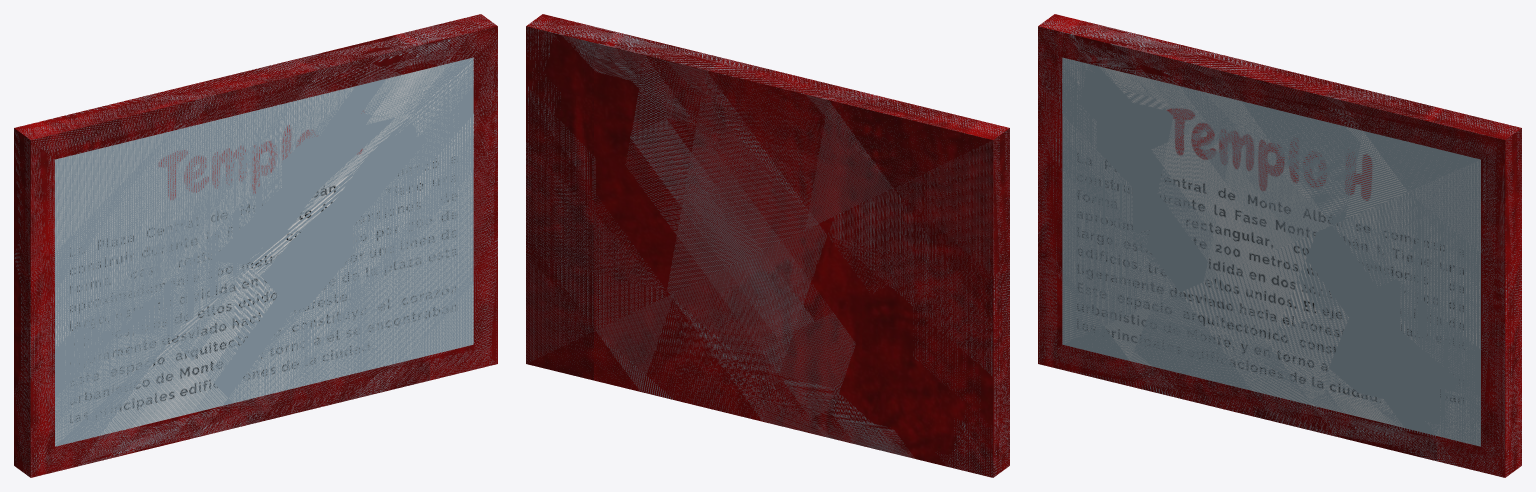
Rendered from templo h.obj.
3 views of the same model, side by side, from view 1: azimuth 30°, elevation 25°; view 2: azimuth 150°, elevation 25°; view 3: azimuth 330°, elevation 25° (orthographic).
Visible parts, largest first — view 1: Mesh1 Model; view 2: Mesh1 Model; view 3: Mesh1 Model.
Boxes of the visible parts, box(x1,y1,x2,y2) form: Mesh1 Model: box(14, 14, 497, 477); Mesh1 Model: box(526, 14, 1009, 477); Mesh1 Model: box(1038, 14, 1521, 477).
Bounding box in the file's own units: 90.81 × 62.75 × 5.62.
